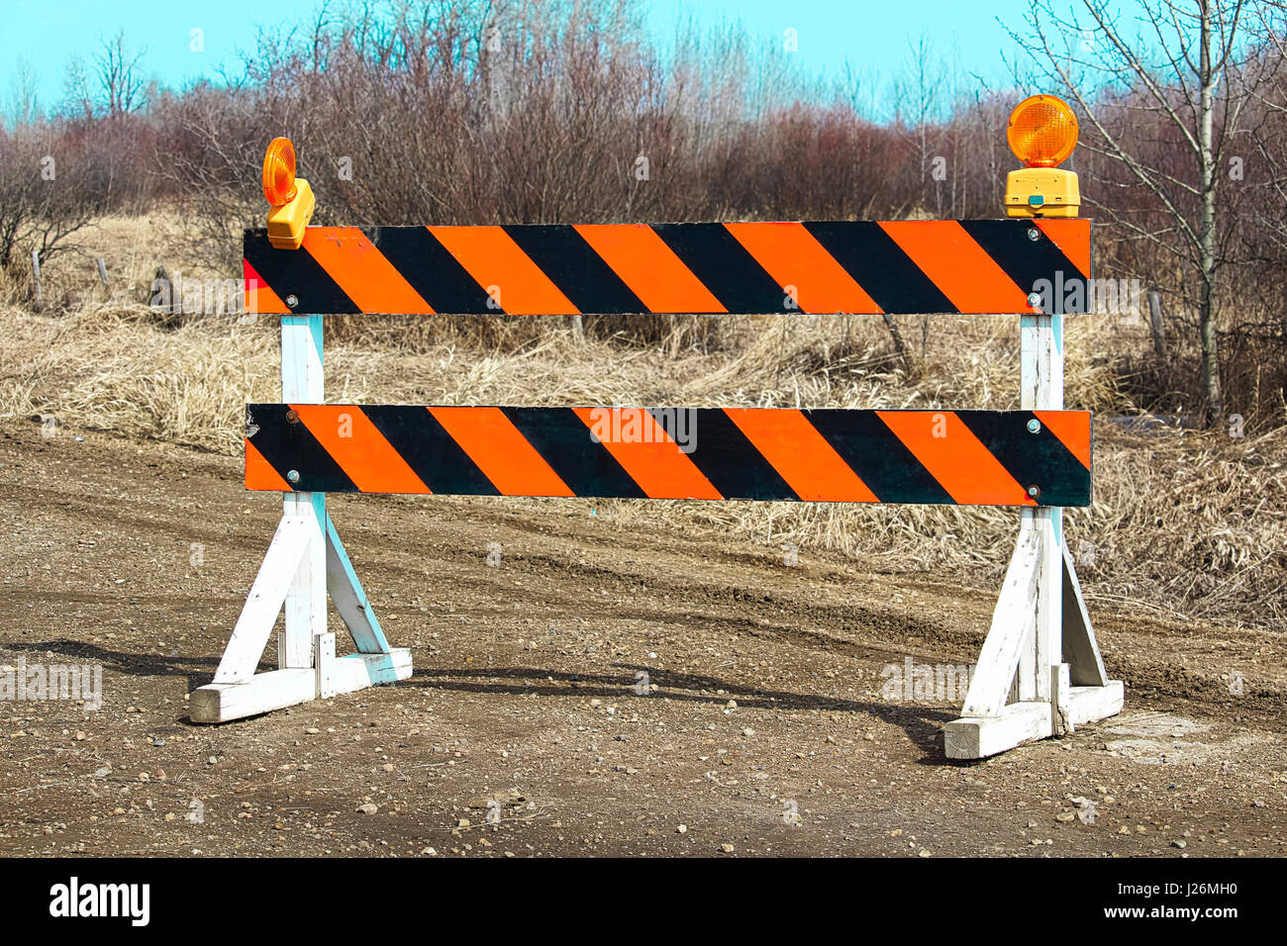Barrier: (135, 92, 1180, 791)
